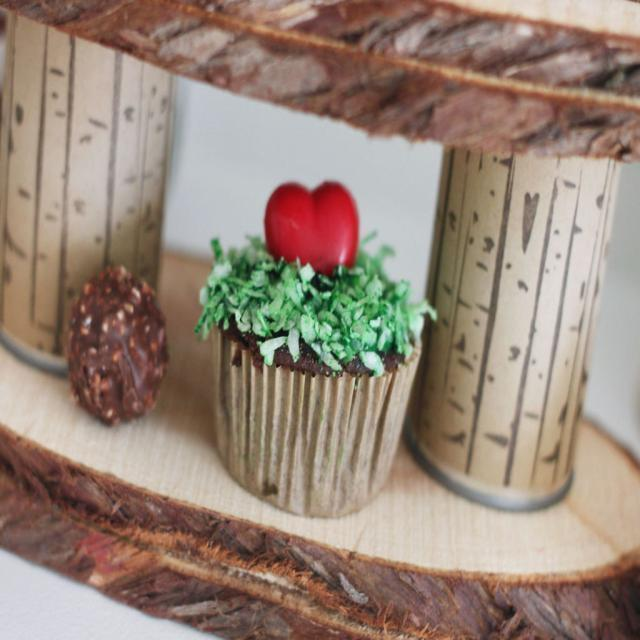Cake: (196, 184, 438, 516)
